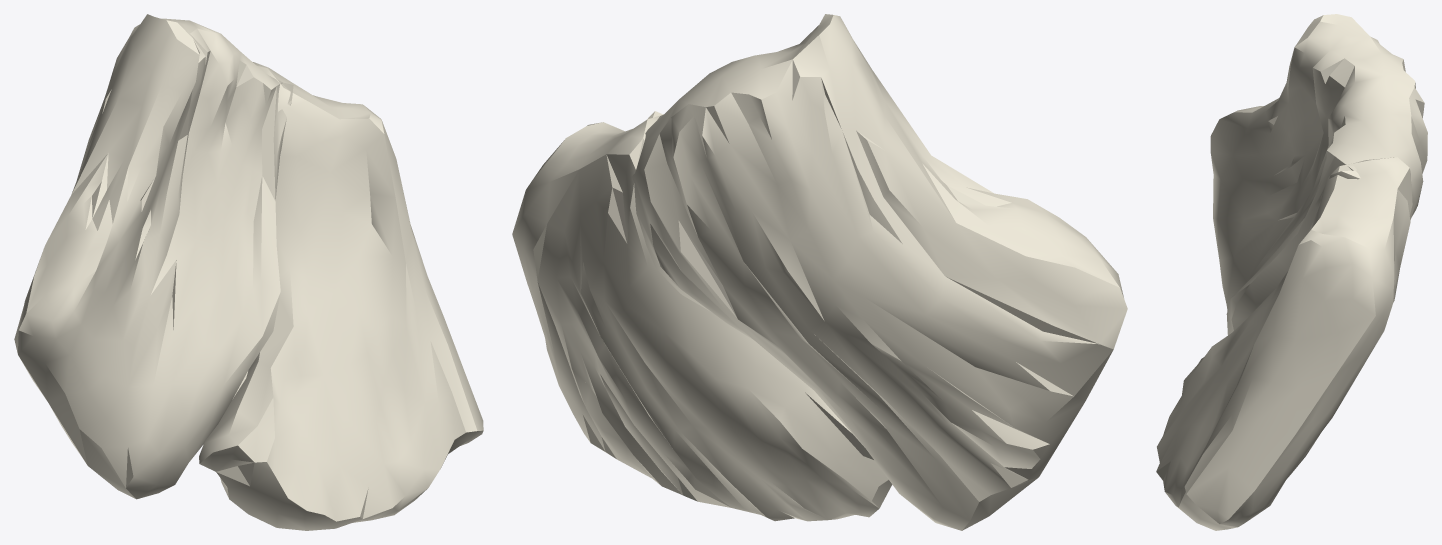
File: fma73171_mm1467m.glb
3 views of the same model, side by side, from view 1: azimuth 30°, elevation 25°; view 2: azimuth 150°, elevation 25°; view 3: azimuth 270°, elevation 25° (orthographic). The views are drawn at different scales.
Parts seen in each view (by area): view 1: FMA73171_MM1467M; view 2: FMA73171_MM1467M; view 3: FMA73171_MM1467M.
Part boxes in pixels (x1,y1,x2,y2): FMA73171_MM1467M: (14, 14, 483, 530); FMA73171_MM1467M: (512, 14, 1127, 530); FMA73171_MM1467M: (1156, 14, 1427, 530).
Size of the model in its own units: 0.00987 by 0.01 by 0.00559.
